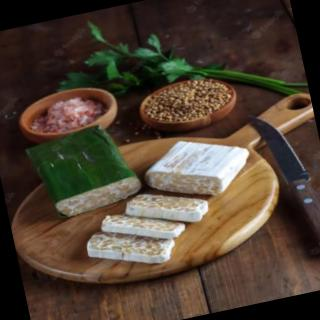Tempe: (64, 127, 269, 282), (20, 118, 148, 225)
